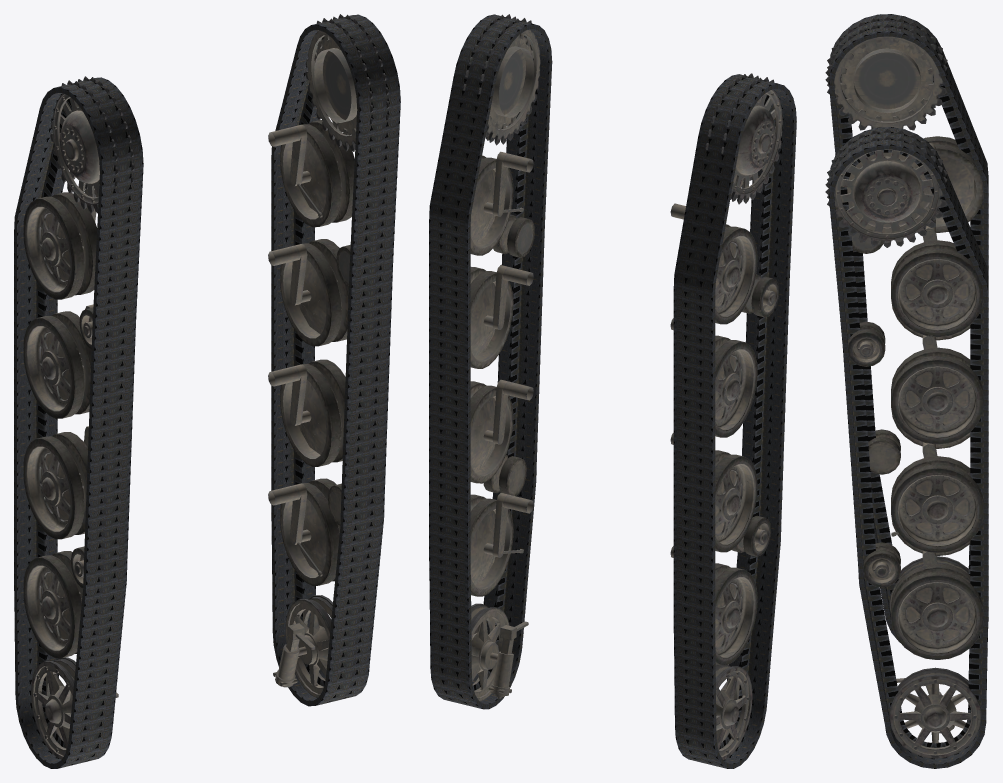
File: Chassis.glb
3 views of the same model, side by side, from view 1: azimuth 30°, elevation 25°; view 2: azimuth 150°, elevation 25°; view 3: azimuth 270°, elevation 25° (orthographic). The views are drawn at different scales.
Visible parts, largest first — view 1: set_0_group_0, set_1_group_0, set_3_group_0, set_2_group_0; view 2: set_0_group_0, set_1_group_0, set_3_group_0, set_2_group_0; view 3: set_3_group_0, set_1_group_0, set_2_group_0, set_0_group_0.
Boxes of the visible parts, bbox=[...] form: set_0_group_0: bbox=[14, 77, 143, 768]; set_1_group_0: bbox=[271, 14, 400, 706]; set_3_group_0: bbox=[268, 14, 389, 697]; set_2_group_0: bbox=[23, 76, 134, 759]; set_0_group_0: bbox=[673, 74, 796, 768]; set_1_group_0: bbox=[429, 14, 552, 709]; set_3_group_0: bbox=[463, 14, 540, 701]; set_2_group_0: bbox=[670, 73, 782, 759]; set_3_group_0: bbox=[825, 128, 983, 758]; set_1_group_0: bbox=[829, 127, 988, 768]; set_2_group_0: bbox=[825, 16, 983, 613]; set_0_group_0: bbox=[829, 14, 988, 642].
Size of the model in its own units: 2.08 by 4.63 by 1.09.
Materials: 4 (4 with a texture image).
